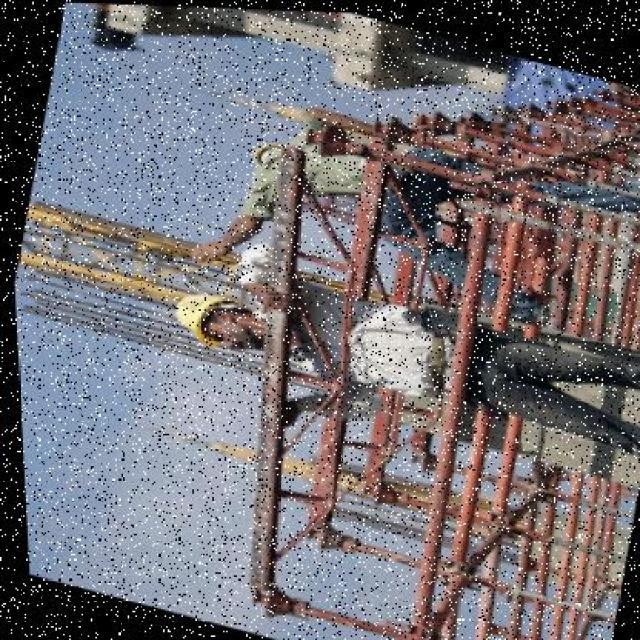helmet: (166, 279, 242, 352)
